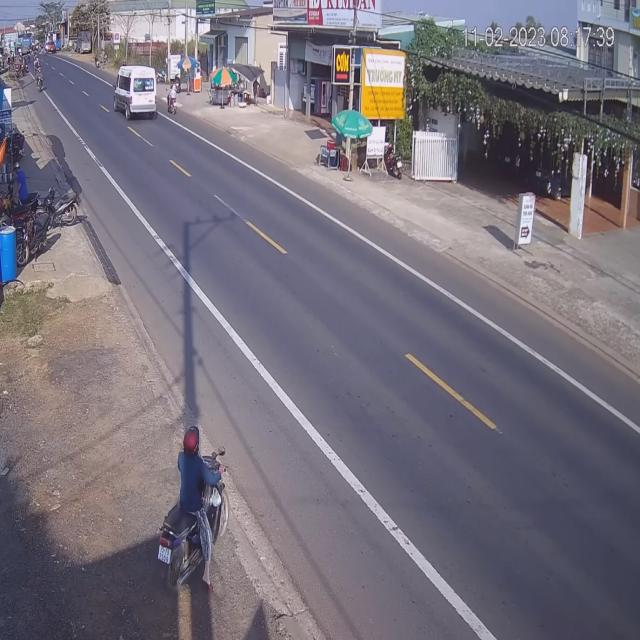bus: (112, 64, 156, 120)
motorbike: (159, 450, 230, 585), (167, 82, 177, 116)
